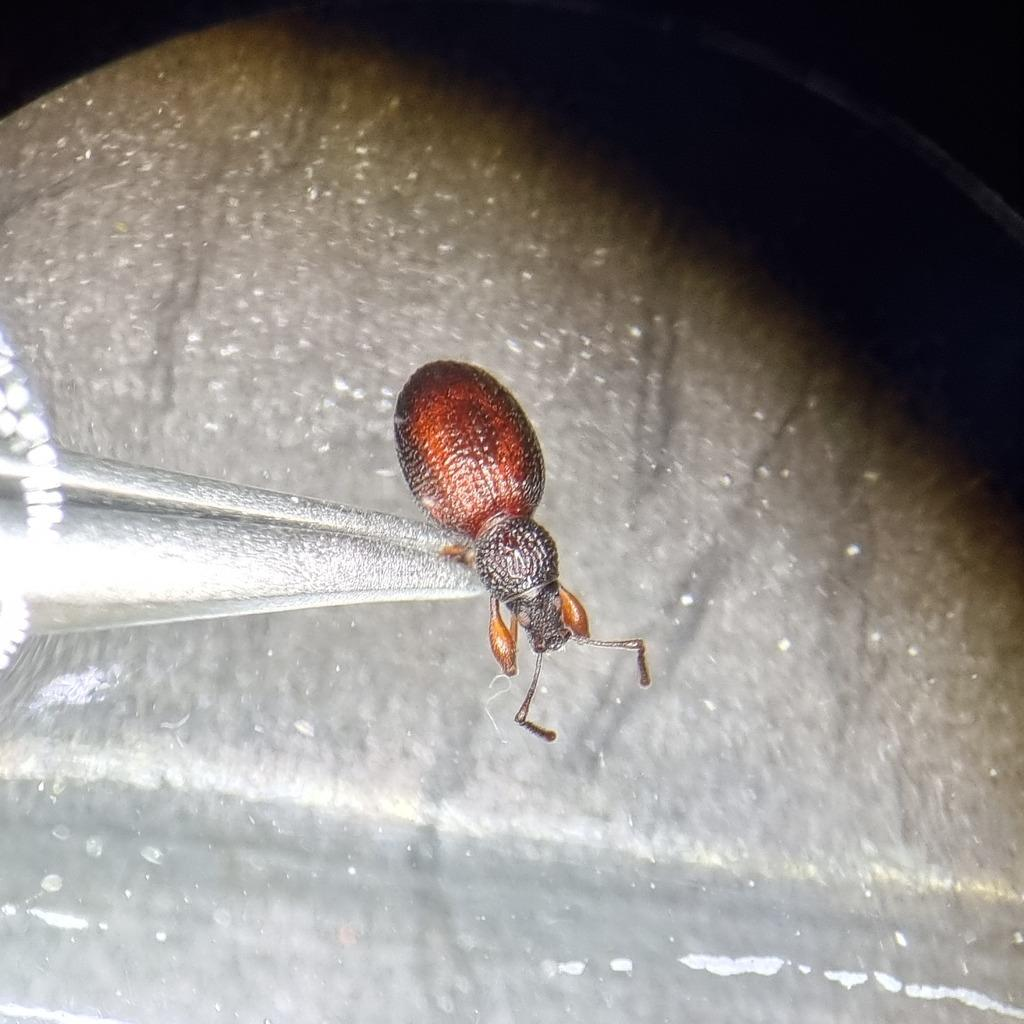weevils: (303, 313, 771, 806)
